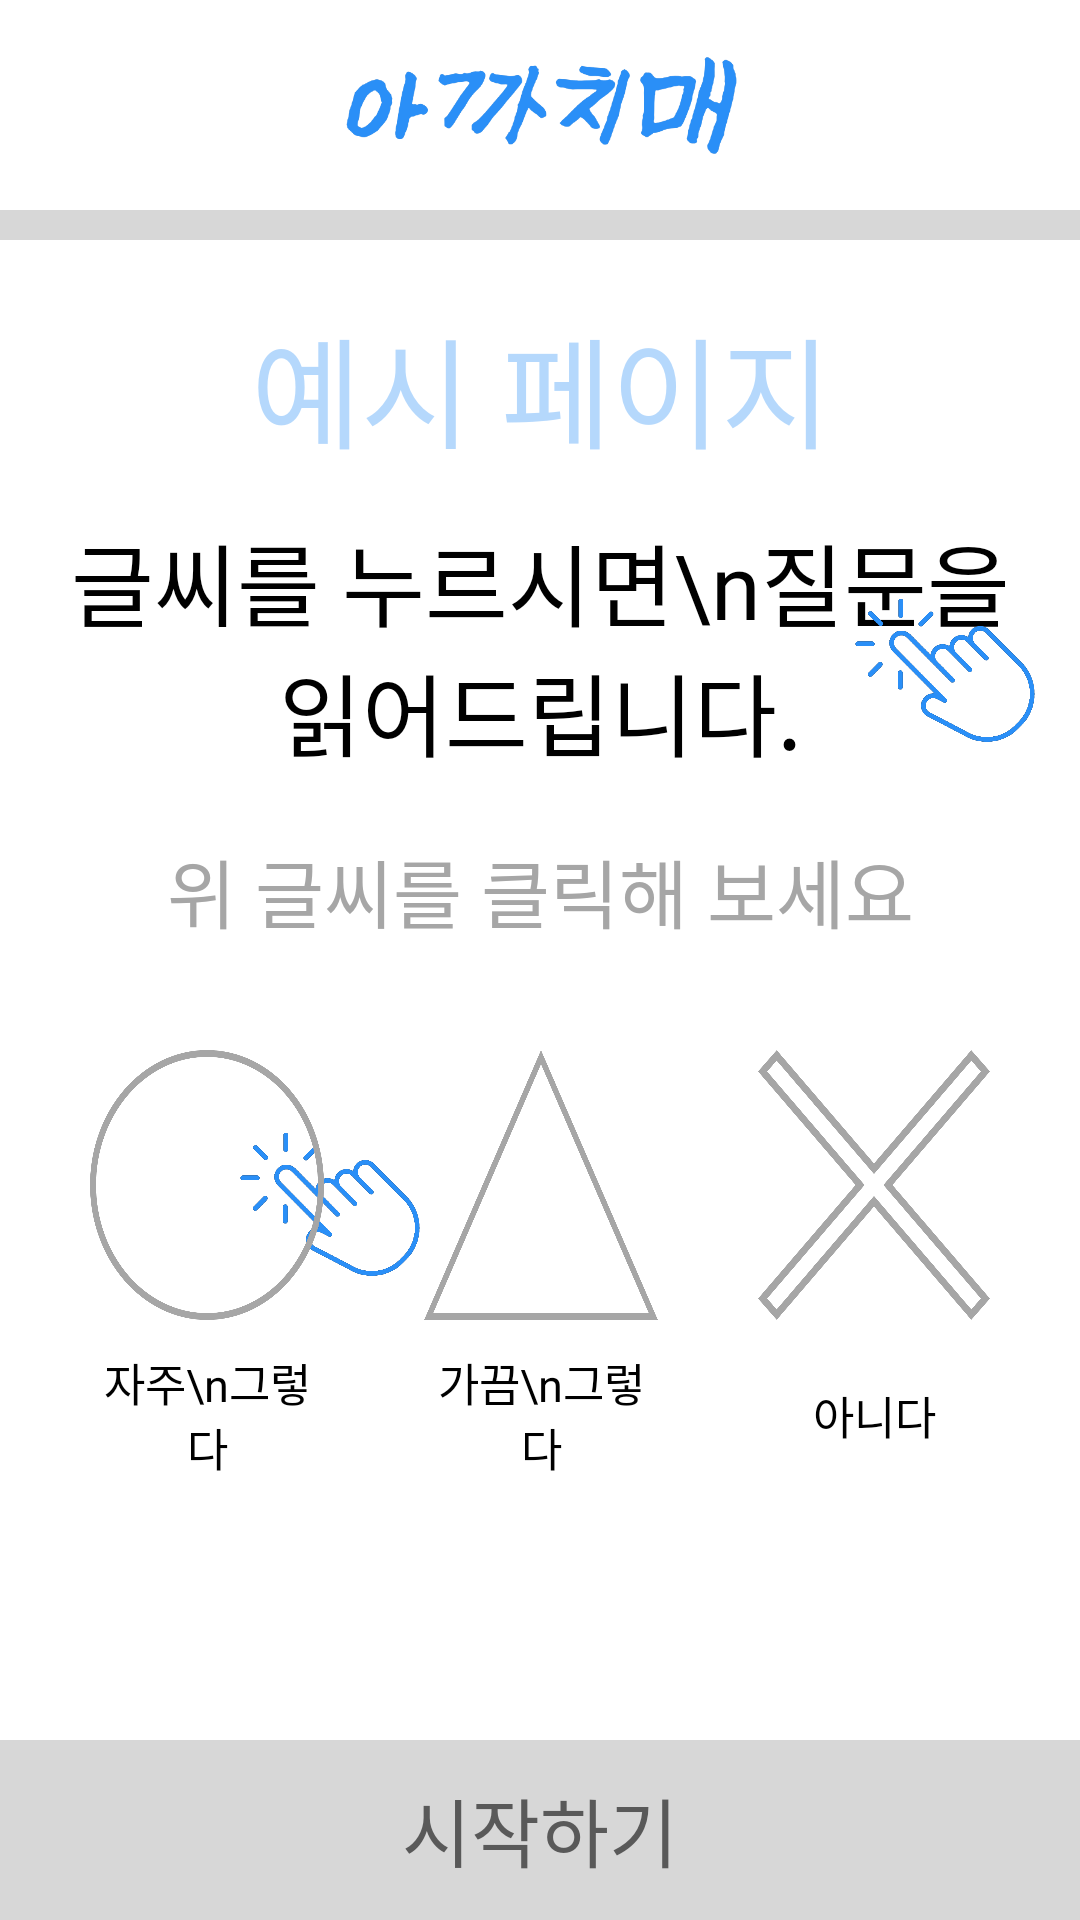

Icons on this 1080px×1920px Android screen, each with the point to tap as point (x, y):
answer triangle: point (541, 1185)
touch: point (945, 661), point (330, 1200)
